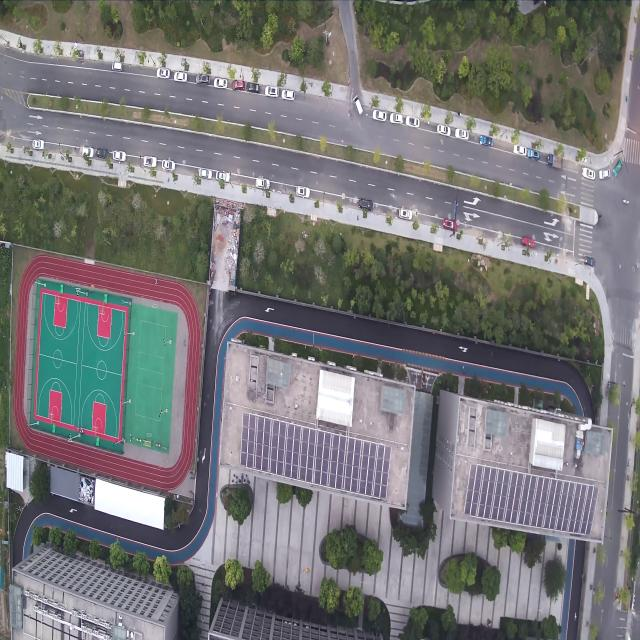UAV: (352, 353, 355, 358)
